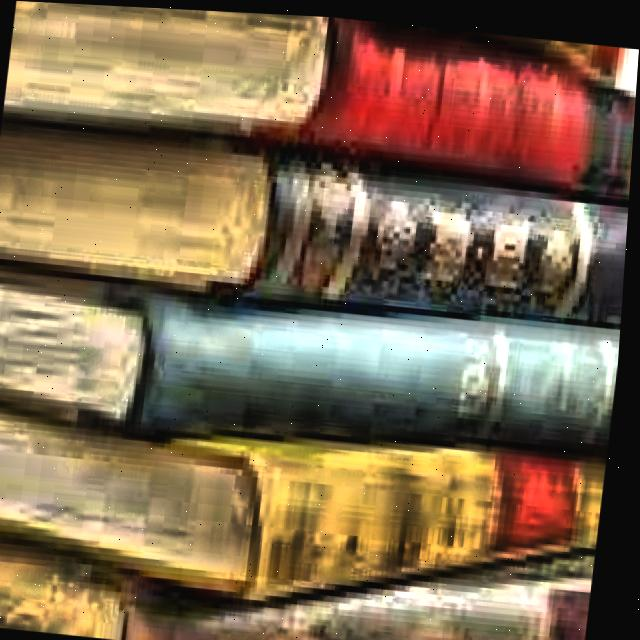paper: (0, 367, 617, 628), (0, 111, 634, 340), (0, 239, 627, 468), (0, 0, 640, 213), (0, 471, 605, 640)
